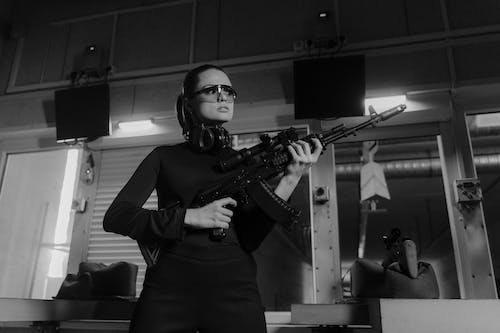gun: (133, 102, 407, 270)
